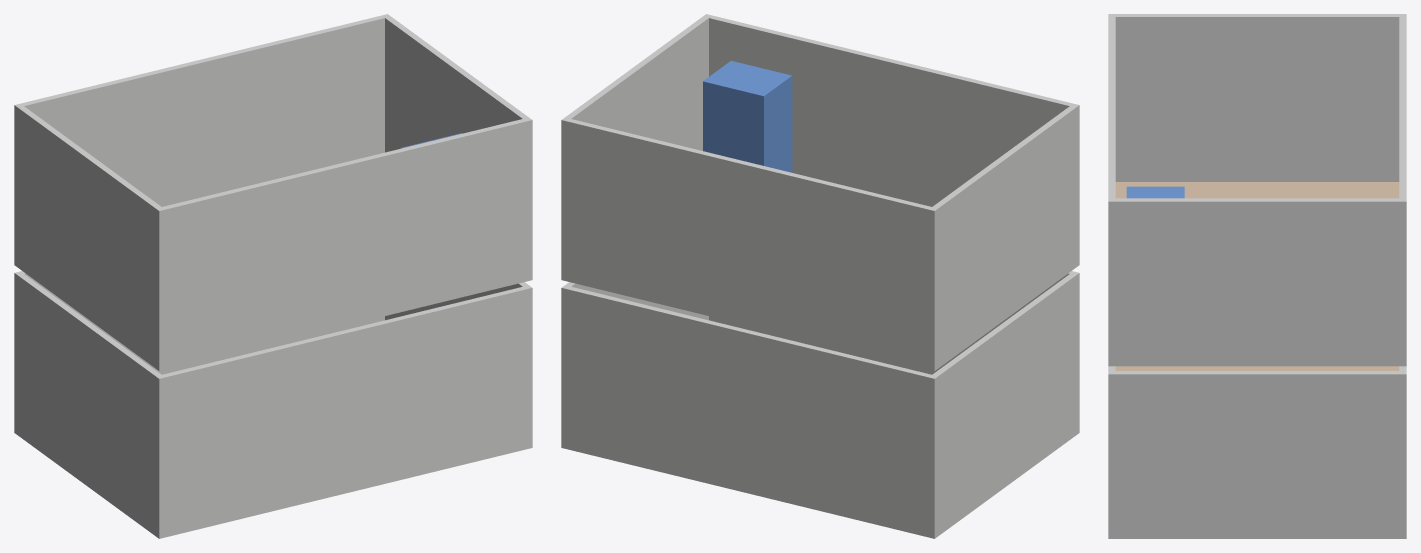
The model's file is levels.glb.
The picture shows the model from 3 angles, left to right: view 1: azimuth 30°, elevation 25°; view 2: azimuth 150°, elevation 25°; view 3: azimuth 270°, elevation 25°; orthographic projection. The views are drawn at different scales.
Visible parts, largest first — view 1: lvl001wall_5_1, lvl000wall_1_1, lvl001wall_4_1, lvl001wall_6_1, lvl000wall_2_1, lvl001wall_7_1, lvl000wall_0_1, lvl000wall_3_1; view 2: lvl001wall_4_1, lvl000wall_0_1, lvl001wall_5_1, lvl000wall_2_1, lvl001wall_6_1, lvl001wall_7_1, lvl001Armoire_1, lvl000wall_1_1, lvl000wall_3_1; view 3: lvl001wall_7_1, lvl000wall_3_1, lvl001wall_6_1, lvl001room_1_1, lvl001wall_4_1, lvl001wall_5_1, lvl000room_0_1, lvl000wall_1_1, lvl000wall_0_1, lvl001Armoire_1.
Boxes of the visible parts, left/top/right/bottom form: lvl001wall_5_1: left=155, top=117, right=532, bottom=370; lvl000wall_1_1: left=155, top=285, right=532, bottom=538; lvl001wall_4_1: left=14, top=14, right=390, bottom=267; lvl001wall_6_1: left=14, top=105, right=165, bottom=370; lvl000wall_2_1: left=14, top=273, right=165, bottom=538; lvl001wall_7_1: left=384, top=14, right=532, bottom=280; lvl000wall_0_1: left=14, top=271, right=384, bottom=435; lvl000wall_3_1: left=385, top=282, right=532, bottom=449; lvl001wall_4_1: left=561, top=117, right=938, bottom=370; lvl000wall_0_1: left=561, top=285, right=937, bottom=538; lvl001wall_5_1: left=703, top=14, right=1079, bottom=267; lvl000wall_2_1: left=928, top=273, right=1079, bottom=538; lvl001wall_6_1: left=928, top=105, right=1078, bottom=370; lvl001wall_7_1: left=561, top=14, right=710, bottom=268; lvl001Armoire_1: left=703, top=60, right=792, bottom=172; lvl000wall_1_1: left=709, top=271, right=1079, bottom=435; lvl000wall_3_1: left=561, top=282, right=708, bottom=449; lvl001wall_7_1: left=1108, top=198, right=1406, bottom=366; lvl000wall_3_1: left=1108, top=371, right=1406, bottom=538; lvl001wall_6_1: left=1108, top=14, right=1406, bottom=181; lvl001room_1_1: left=1115, top=182, right=1399, bottom=198; lvl001wall_4_1: left=1399, top=14, right=1406, bottom=366; lvl001wall_5_1: left=1108, top=14, right=1115, bottom=366; lvl000room_0_1: left=1115, top=366, right=1399, bottom=370; lvl000wall_1_1: left=1108, top=366, right=1115, bottom=538; lvl000wall_0_1: left=1399, top=366, right=1406, bottom=538; lvl001Armoire_1: left=1126, top=186, right=1184, bottom=198.
Size of the model in its own units: 610 by 514 by 410.
